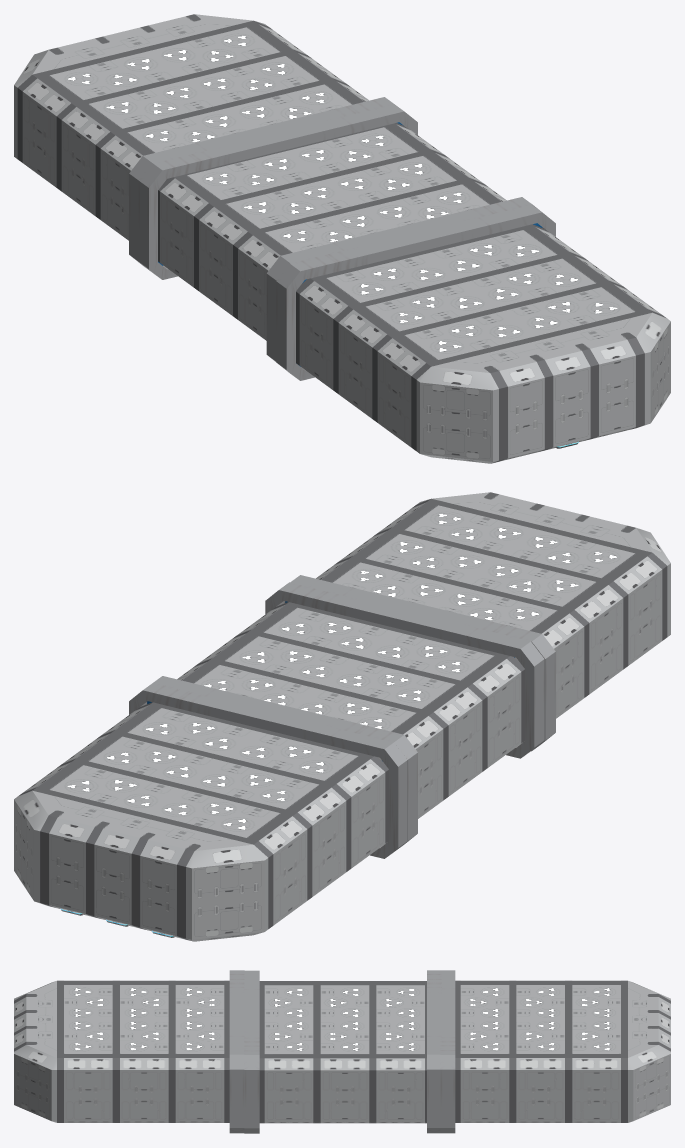
The model's file is Pruebas Space X.fbx.
The picture shows the model from 3 angles, top to bottom: view 1: azimuth 30°, elevation 25°; view 2: azimuth 150°, elevation 25°; view 3: azimuth 270°, elevation 25°; orthographic projection. The views are drawn at different scales.
Parts seen in each view (by area): view 1: Mesh1056_main_cham_0, Mesh1064_main_cham_0, Mesh1041_main_door_0, Mesh1041_main_door_0.002, Mesh1073_main_cham_0, Mesh1060_main_cham_0, Mesh1068_main_cham_0.002, Mesh1058_main_cham_0.002, Mesh1066_main_cham_0, Mesh1058_main_cham_0.001, Mesh1068_main_cham_0.001, Mesh1069_main_cham_0.002 (+29 smaller); view 2: Mesh1064_main_cham_0.001, Mesh1056_main_cham_0.001, Mesh1041_main_door_0.001, Mesh1041_main_door_0.003, Mesh1069_main_cham_0.002, Mesh1058_main_cham_0.002, Mesh1066_main_cham_0, Mesh1068_main_cham_0.001, Mesh1060_main_cham_0, Mesh1068_main_cham_0.002, Mesh1069_main_cham_0.001, Mesh1073_main_cham_0 (+30 smaller); view 3: Mesh1069_main_cham_0, Mesh1073_main_cham_0.001, Mesh1066_main_cham_0.001, Mesh1073_main_cham_0.002, Mesh1068_main_cham_0, Mesh1058_main_cham_0, Mesh1060_main_cham_0.001, Mesh1066_main_cham_0.002, Mesh1060_main_cham_0.002, Mesh1056_main_cham_0.001, Mesh1064_main_cham_0, Mesh1041_main_door_0.001 (+33 smaller).
Part boxes in pixels (x1,y1,x2,y2): Mesh1056_main_cham_0: (416, 339, 571, 461); Mesh1064_main_cham_0: (542, 312, 670, 442); Mesh1041_main_door_0: (276, 204, 555, 380); Mesh1041_main_door_0.002: (138, 103, 417, 279); Mesh1073_main_cham_0: (299, 254, 458, 389); Mesh1060_main_cham_0: (377, 311, 536, 446); Mesh1068_main_cham_0.002: (61, 80, 220, 215); Mesh1058_main_cham_0.002: (22, 51, 181, 187); Mesh1066_main_cham_0: (338, 282, 497, 418); Mesh1058_main_cham_0.001: (160, 151, 318, 287); Mesh1068_main_cham_0.001: (199, 180, 357, 315); Mesh1069_main_cham_0.002: (100, 108, 253, 240); Mesh1064_main_cham_0.001: (113, 817, 268, 939); Mesh1056_main_cham_0.001: (14, 790, 142, 920); Mesh1041_main_door_0.001: (265, 582, 544, 758); Mesh1041_main_door_0.003: (129, 682, 407, 858); Mesh1069_main_cham_0.002: (226, 732, 385, 868); Mesh1058_main_cham_0.002: (148, 789, 307, 925); Mesh1066_main_cham_0: (464, 558, 623, 694); Mesh1068_main_cham_0.001: (323, 660, 482, 796); Mesh1060_main_cham_0: (503, 529, 662, 665); Mesh1068_main_cham_0.002: (187, 760, 346, 896); Mesh1069_main_cham_0.001: (362, 632, 521, 767); Mesh1073_main_cham_0: (431, 586, 584, 718); Mesh1069_main_cham_0: (175, 1019, 224, 1121); Mesh1073_main_cham_0.001: (264, 1019, 313, 1121); Mesh1066_main_cham_0.001: (320, 1019, 369, 1121); Mesh1073_main_cham_0.002: (460, 1019, 509, 1121); Mesh1068_main_cham_0: (120, 1019, 168, 1121); Mesh1058_main_cham_0: (64, 1019, 112, 1121); Mesh1060_main_cham_0.001: (376, 1019, 424, 1121); Mesh1066_main_cham_0.002: (516, 1019, 564, 1121); Mesh1060_main_cham_0.002: (572, 1019, 620, 1121); Mesh1056_main_cham_0.001: (628, 1019, 670, 1121); Mesh1064_main_cham_0: (14, 1019, 56, 1121); Mesh1041_main_door_0.001: (244, 970, 259, 1133).
Size of the model in its own units: 59.19 by 23 by 174.
Materials: 9 (9 with a texture image).
